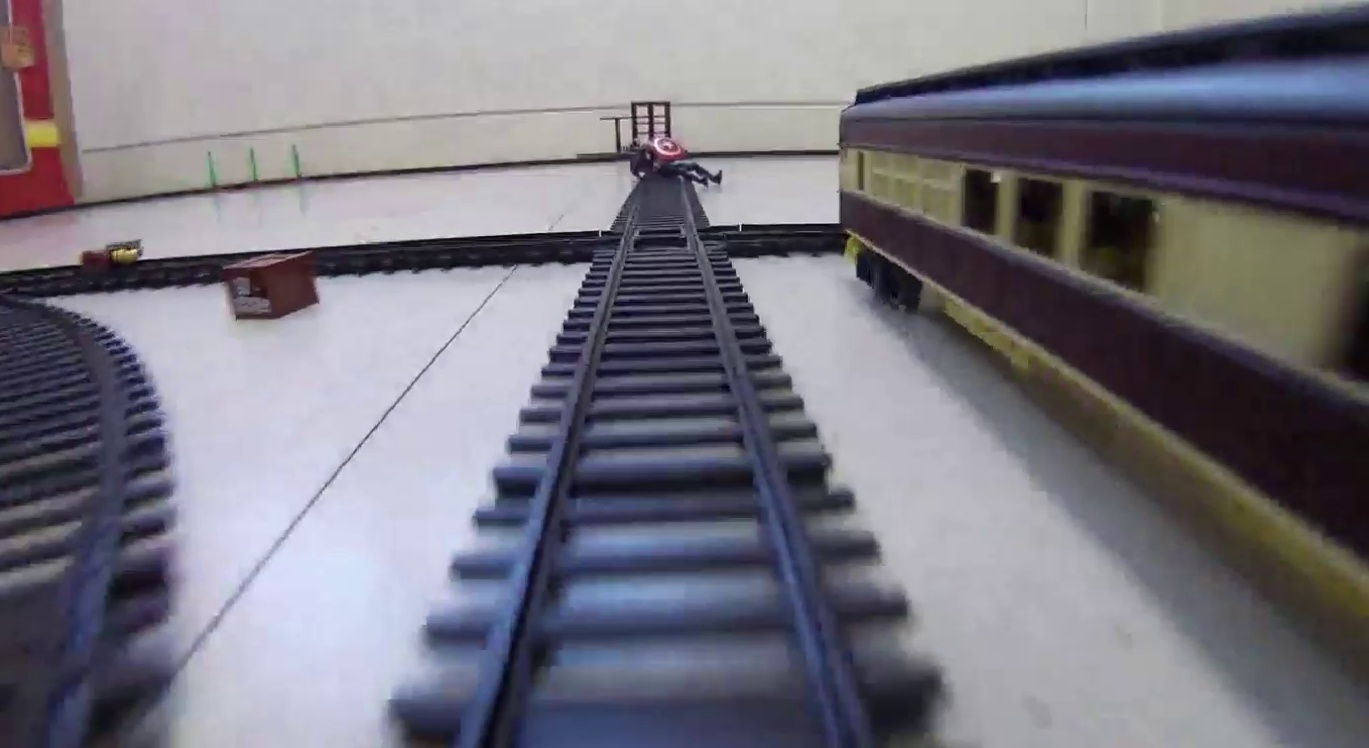box: (224, 253, 313, 317)
people: (621, 138, 725, 188)
